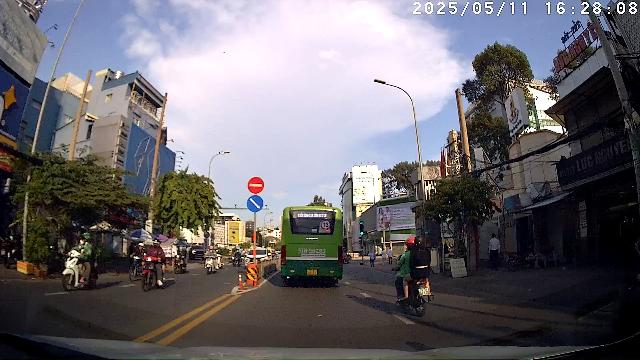102-cam-di-nguoc-chieu: (248, 177, 264, 193)
302a-huong-phai-di-vong-chuong-ngai-vat-1: (247, 196, 263, 212)
